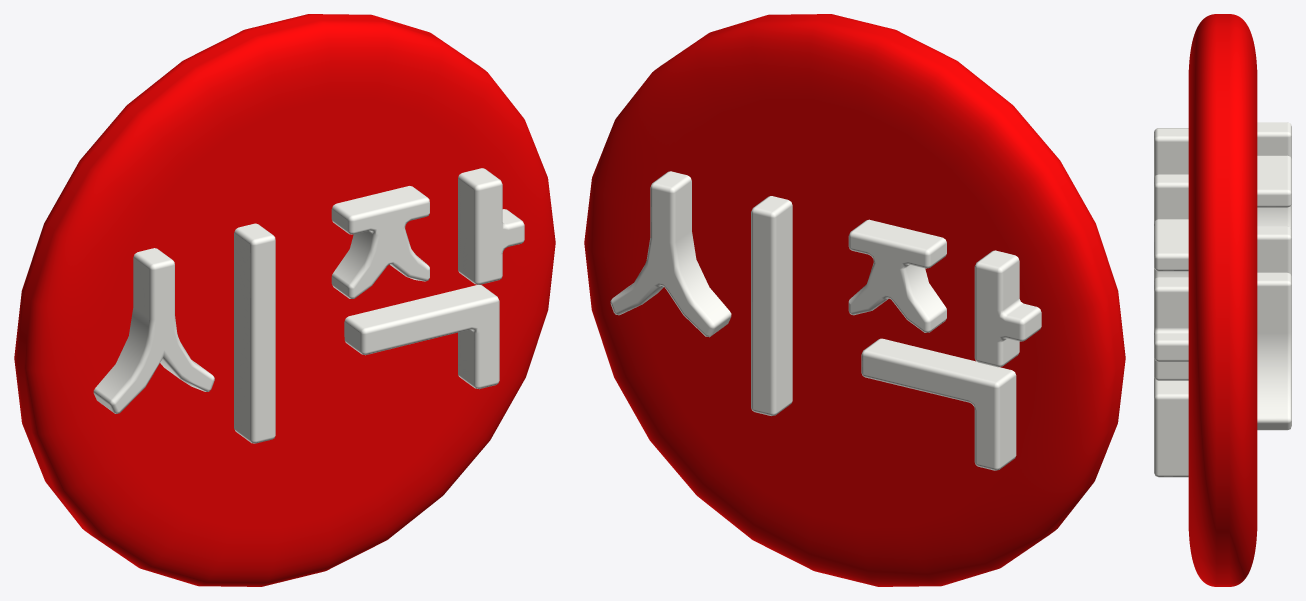
The model's file is StartButton.fbx.
The picture shows the model from 3 angles, left to right: view 1: azimuth 30°, elevation 25°; view 2: azimuth 150°, elevation 25°; view 3: azimuth 270°, elevation 25°; orthographic projection. The views are drawn at different scales.
Parts seen in each view (by area): view 1: startbutoon; view 2: startbutoon; view 3: startbutoon.
Boxes of the visible parts, x1,y1,x2,y2 form: startbutoon: (14,14,555,586); startbutoon: (584,14,1125,586); startbutoon: (1154,14,1291,586).
Size of the model in its own units: 2500 by 600 by 2482.
